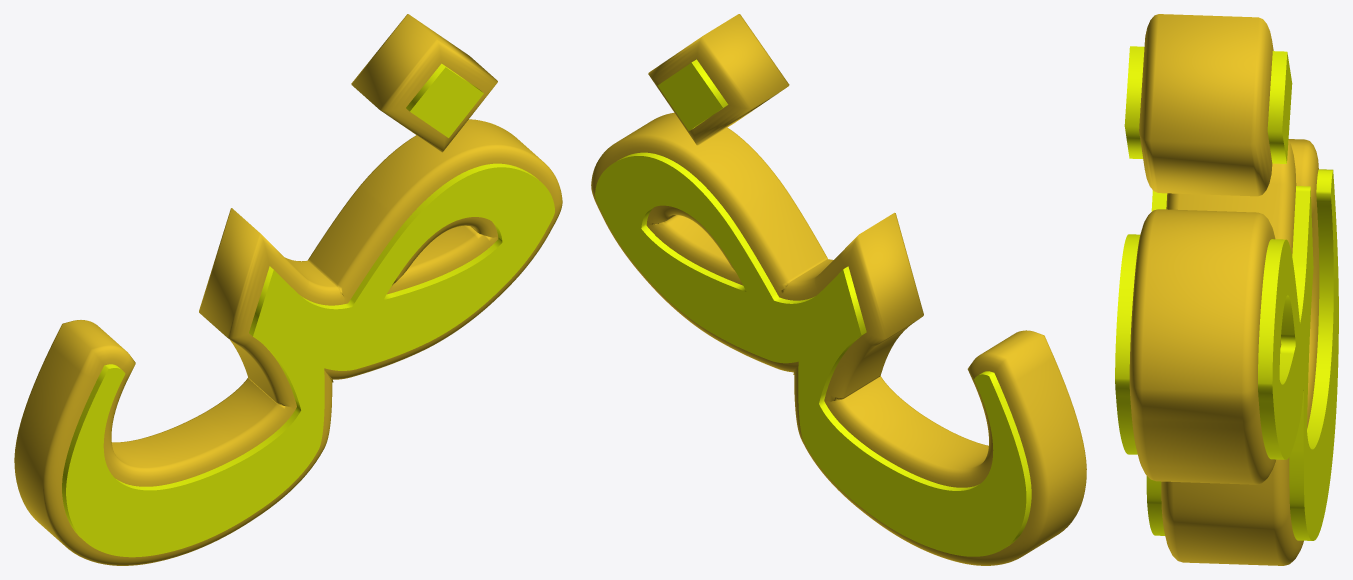
3 renders of one model, left to right at view 1: azimuth 30°, elevation 25°; view 2: azimuth 150°, elevation 25°; view 3: azimuth 270°, elevation 25°, orthographic. The views are drawn at different scales.
Visible parts, largest first — view 1: text 2, Text; view 2: text 2, Text; view 3: text 2, Text.
Boxes of the visible parts, <box> form: text 2: <box>14,14,562,565</box>; Text: <box>62,63,554,557</box>; text 2: <box>591,14,1086,565</box>; Text: <box>595,59,1031,556</box>; text 2: <box>1129,14,1319,565</box>; Text: <box>1115,46,1338,540</box>.
Size of the model in its own units: 68.33 by 60.82 by 17.25.
